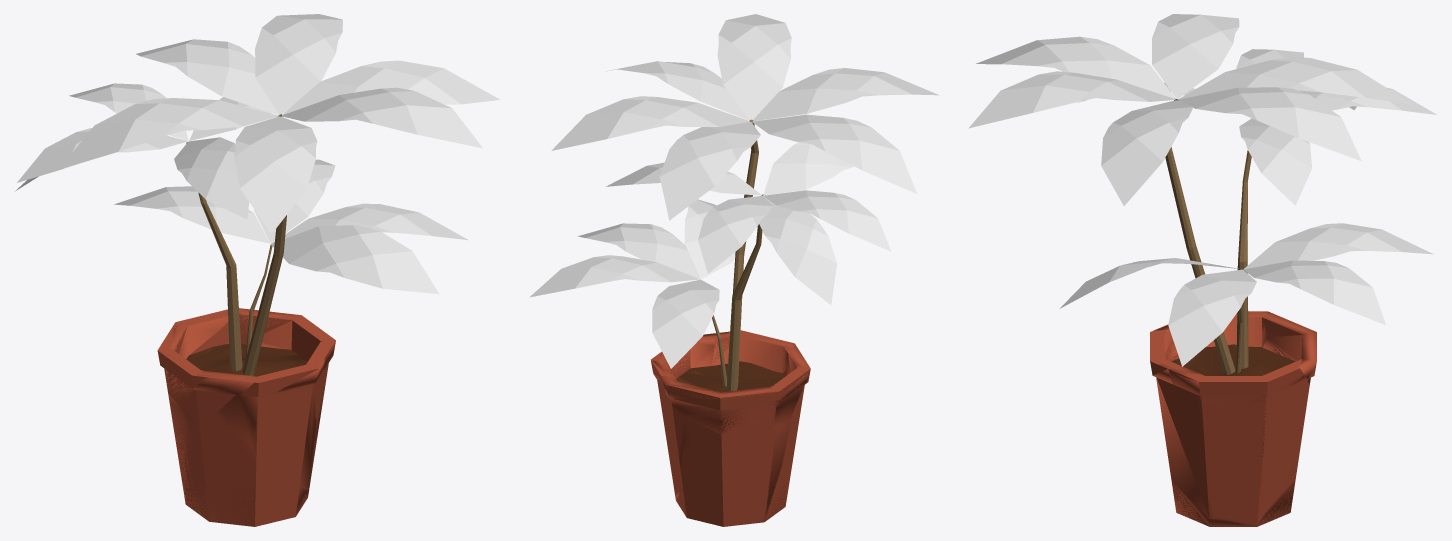
The model's file is Plant.fbx.
3 renders of one model, left to right at view 1: azimuth 30°, elevation 25°; view 2: azimuth 150°, elevation 25°; view 3: azimuth 270°, elevation 25°, orthographic. The views are drawn at different scales.
Parts seen in each view (by area): view 1: Branch1, pot, Branch3, Branch2, pot_cell.002, pot_cell, pot_cell.004, pot_cell.001, pot_cell.003; view 2: Branch1, pot, Branch2, Branch3, pot_cell.002, pot_cell.001, pot_cell.004, pot_cell.003, pot_cell; view 3: Branch1, pot, Branch3, Branch2, pot_cell.002, pot_cell.001, pot_cell, pot_cell.003, pot_cell.004.
Part boxes in pixels (bbox=[...]): Branch1: bbox=[58, 14, 500, 375]; pot: bbox=[157, 308, 335, 526]; Branch3: bbox=[114, 159, 468, 358]; Branch2: bbox=[15, 83, 293, 371]; pot_cell.002: bbox=[168, 350, 324, 488]; pot_cell: bbox=[169, 400, 309, 526]; pot_cell.004: bbox=[240, 312, 335, 466]; pot_cell.001: bbox=[169, 309, 257, 361]; pot_cell.003: bbox=[164, 350, 253, 404]; Branch1: bbox=[551, 14, 939, 386]; pot: bbox=[651, 330, 810, 526]; Branch2: bbox=[605, 142, 891, 391]; Branch3: bbox=[529, 199, 735, 386]; pot_cell.002: bbox=[679, 331, 795, 469]; pot_cell.001: bbox=[661, 375, 774, 434]; pot_cell.004: bbox=[652, 333, 716, 386]; pot_cell.003: bbox=[768, 345, 809, 425]; pot_cell: bbox=[675, 421, 790, 523]; Branch1: bbox=[968, 14, 1413, 374]; pot: bbox=[1150, 311, 1316, 526]; Branch3: bbox=[1059, 223, 1433, 372]; Branch2: bbox=[1078, 49, 1436, 368]; pot_cell.002: bbox=[1153, 329, 1298, 518]; pot_cell.001: bbox=[1263, 313, 1316, 384]; pot_cell: bbox=[1171, 480, 1295, 526]; pot_cell.003: bbox=[1154, 311, 1270, 350]; pot_cell.004: bbox=[1169, 367, 1306, 519].
Bounding box in the file's own units: 5.14 × 5.45 × 5.16.
